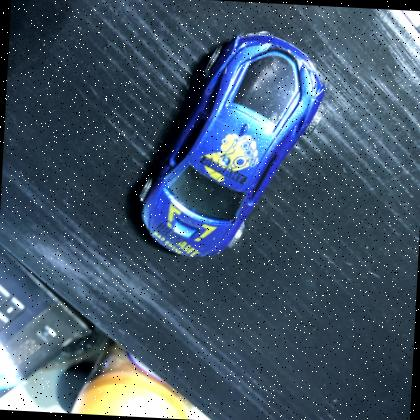Car: (131, 19, 336, 273)
